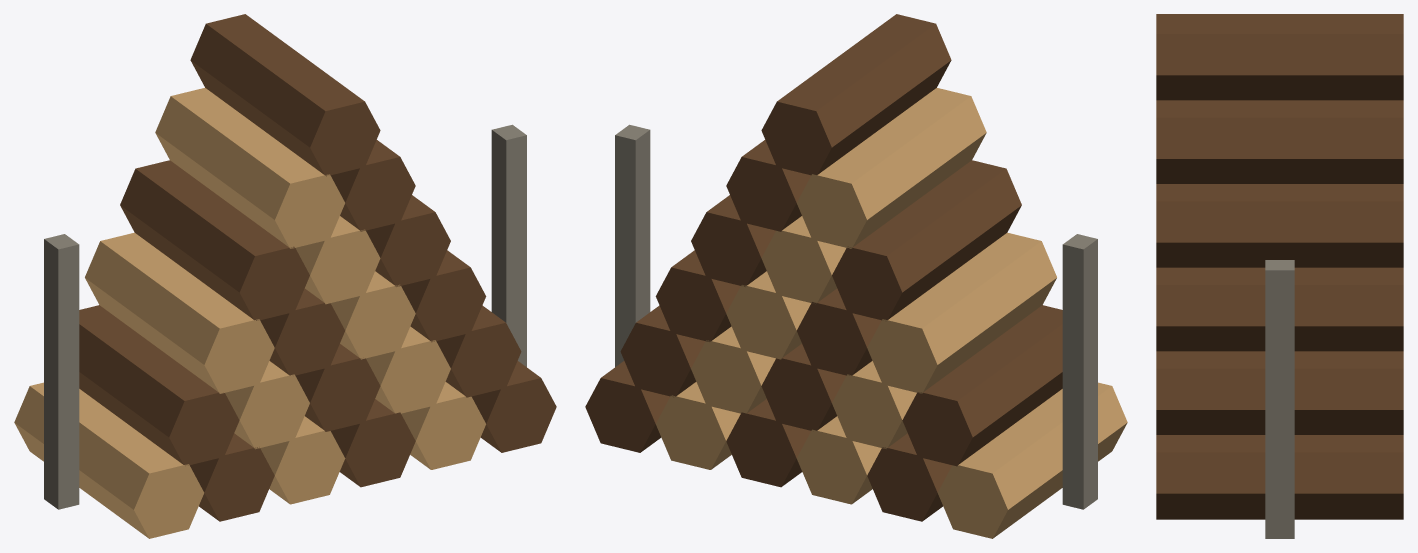
The model's file is GT_FirewoodStack_Triangle_01.glb.
The picture shows the model from 3 angles, left to right: view 1: azimuth 30°, elevation 25°; view 2: azimuth 150°, elevation 25°; view 3: azimuth 270°, elevation 25°; orthographic projection. The views are drawn at different scales.
Parts seen in each view (by area): view 1: GT_FirewoodStack_Triangle_01; view 2: GT_FirewoodStack_Triangle_01; view 3: GT_FirewoodStack_Triangle_01.
Boxes of the visible parts, bbox=[...] form: GT_FirewoodStack_Triangle_01: bbox=[14, 14, 556, 538]; GT_FirewoodStack_Triangle_01: bbox=[585, 14, 1127, 538]; GT_FirewoodStack_Triangle_01: bbox=[1156, 14, 1403, 538].
Size of the model in its own units: 1.13 by 0.8869 by 0.5.
1 material, 1 textured.
